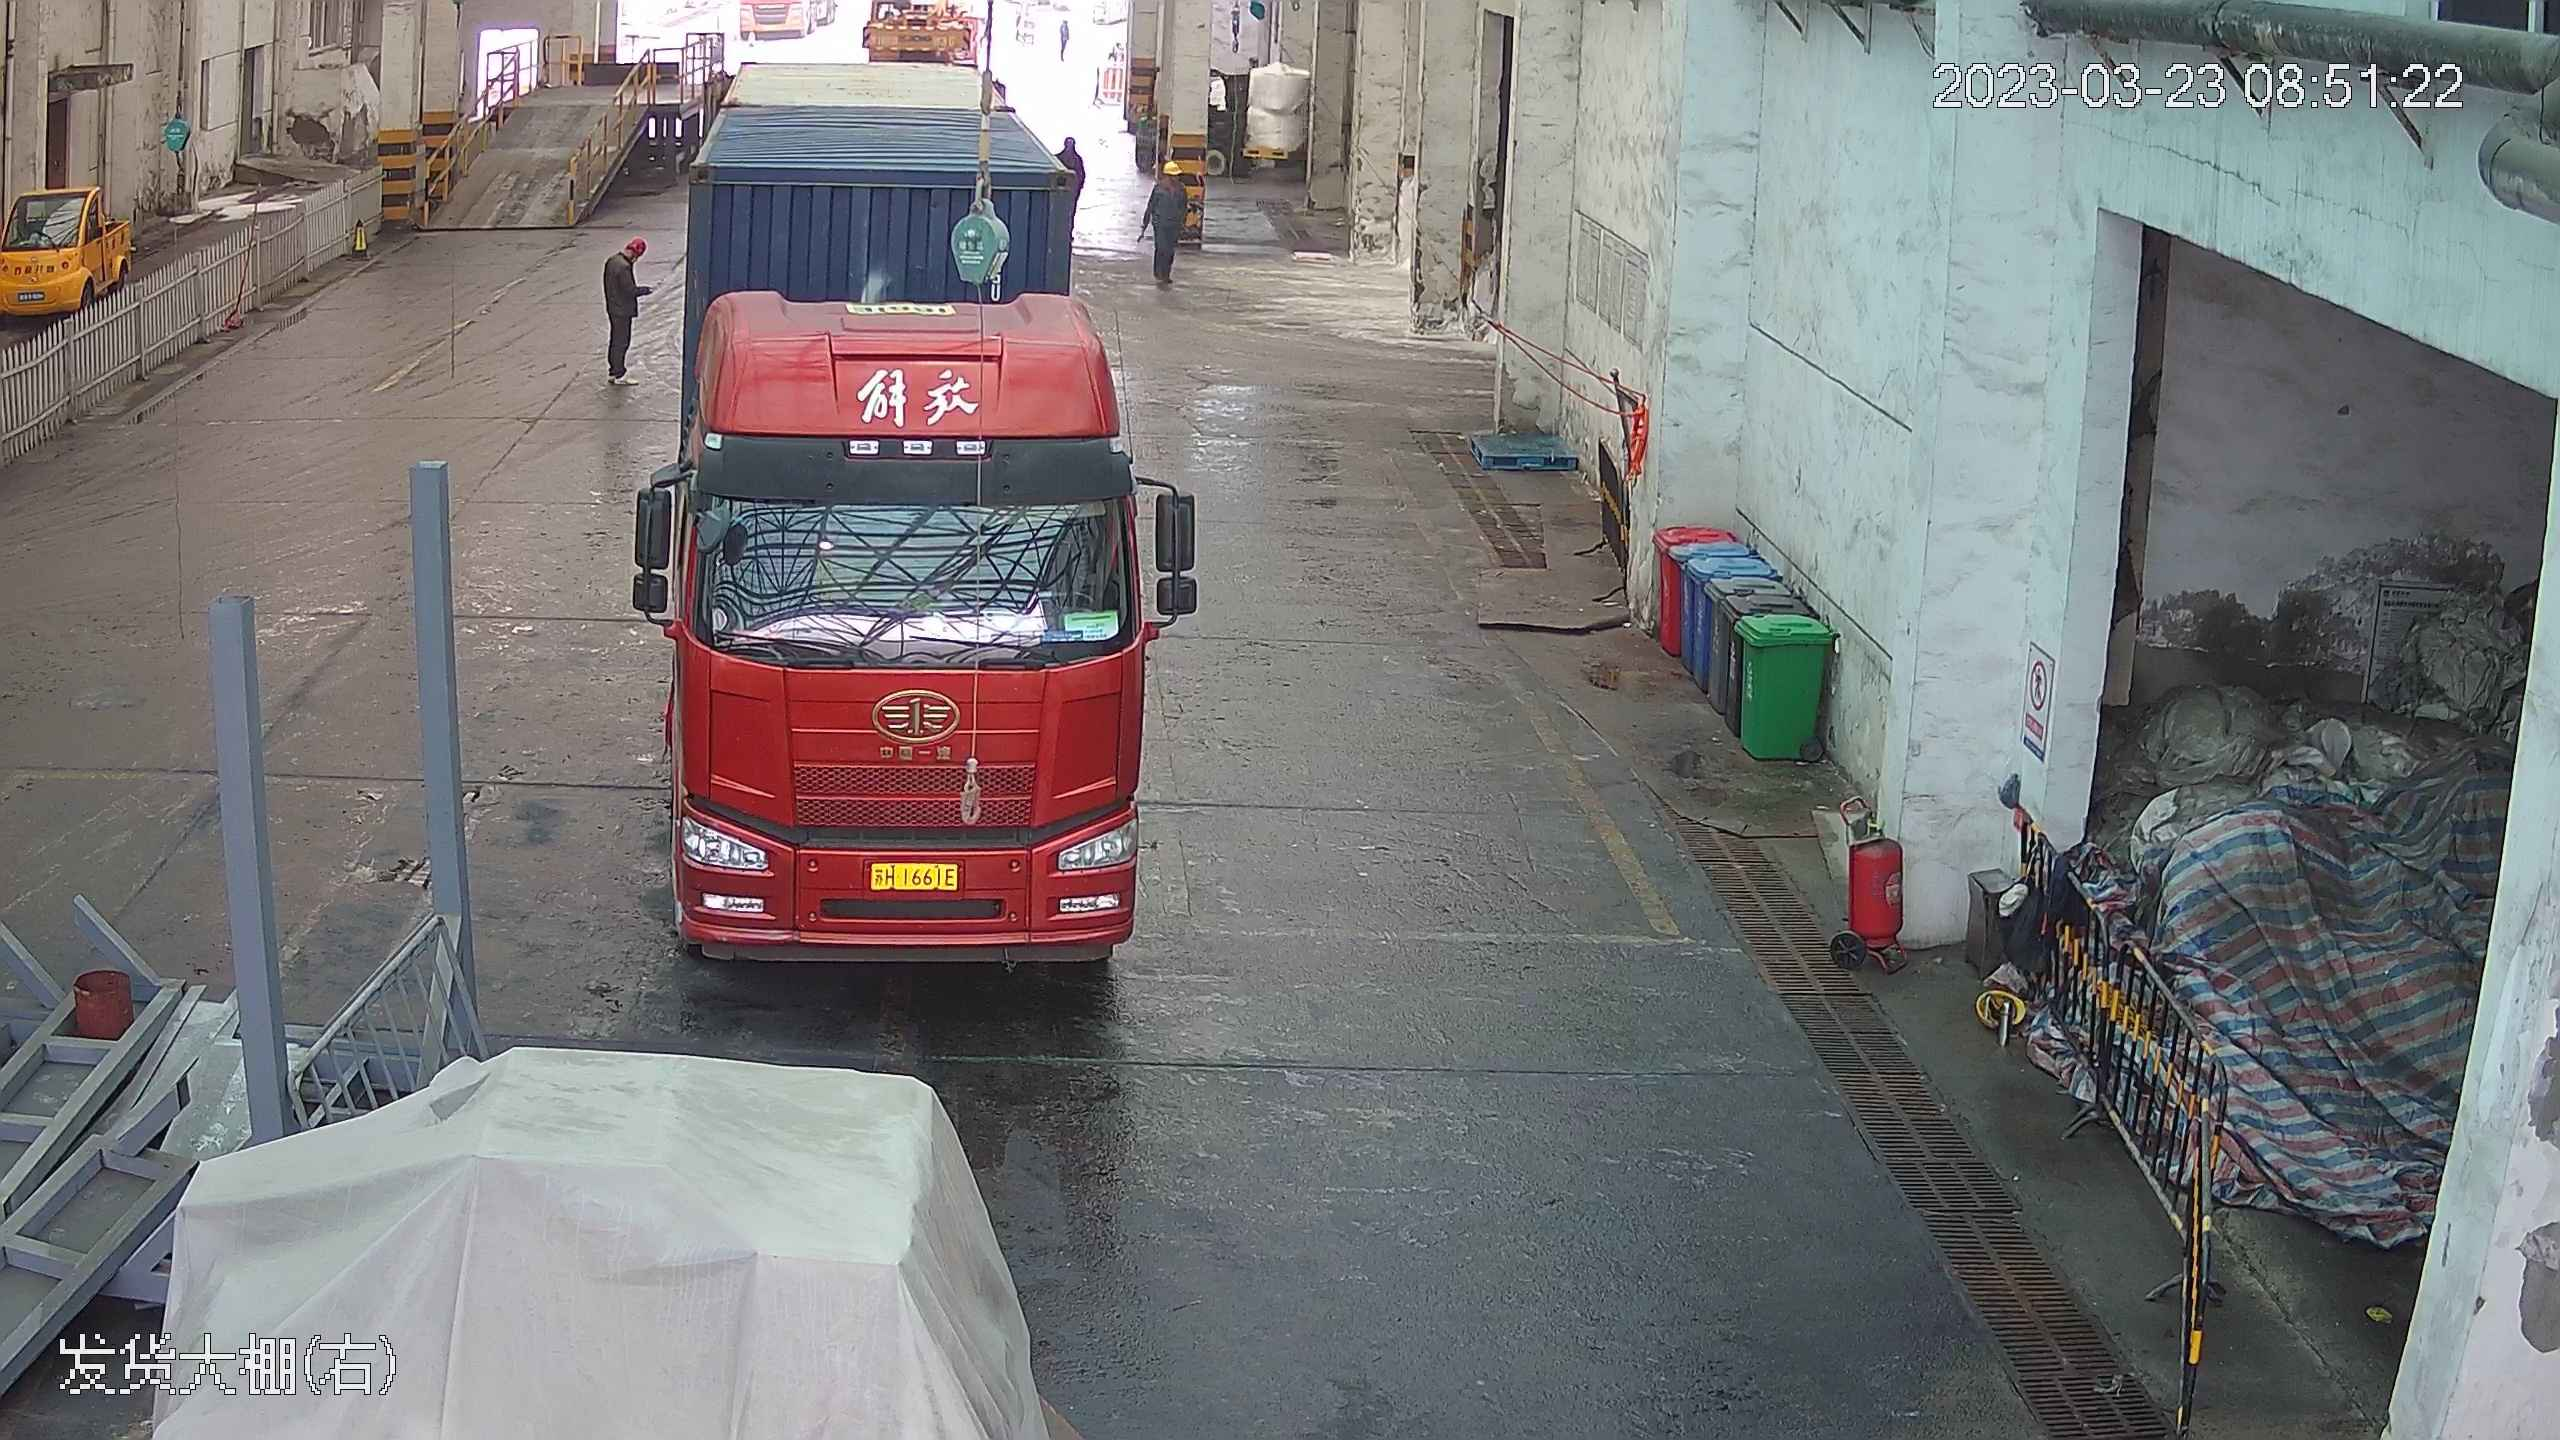head: (1146, 160, 1194, 209), (607, 232, 643, 277), (1056, 128, 1087, 163)
helmet: (629, 234, 649, 257), (1162, 161, 1187, 178)
people: (1139, 157, 1194, 295), (603, 228, 646, 387), (1056, 119, 1089, 220)
truck: (634, 22, 1172, 959)
